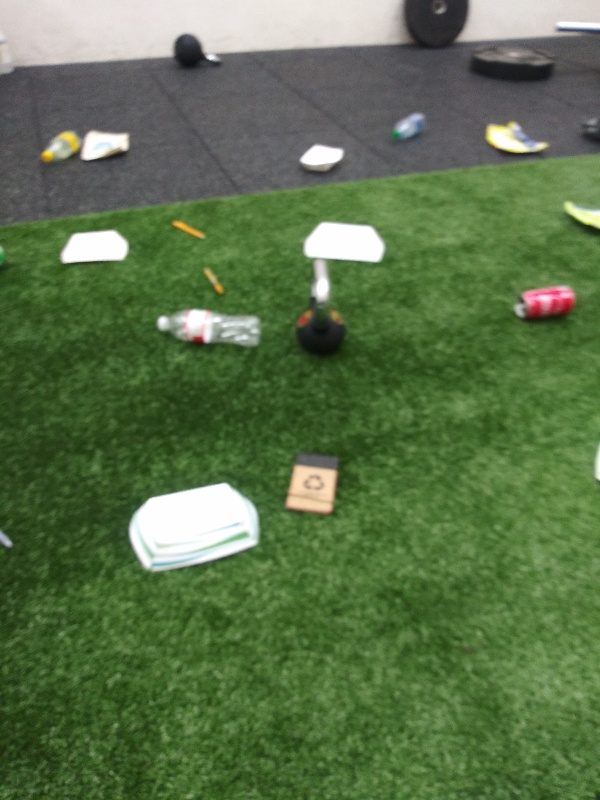bag: (479, 120, 552, 161), (79, 126, 131, 168), (562, 197, 600, 241)
bottle: (149, 306, 264, 350), (38, 123, 86, 173), (385, 108, 430, 144)
can: (510, 283, 579, 320)
plate: (124, 481, 262, 574), (299, 220, 391, 269), (57, 223, 133, 269), (297, 143, 351, 173)
